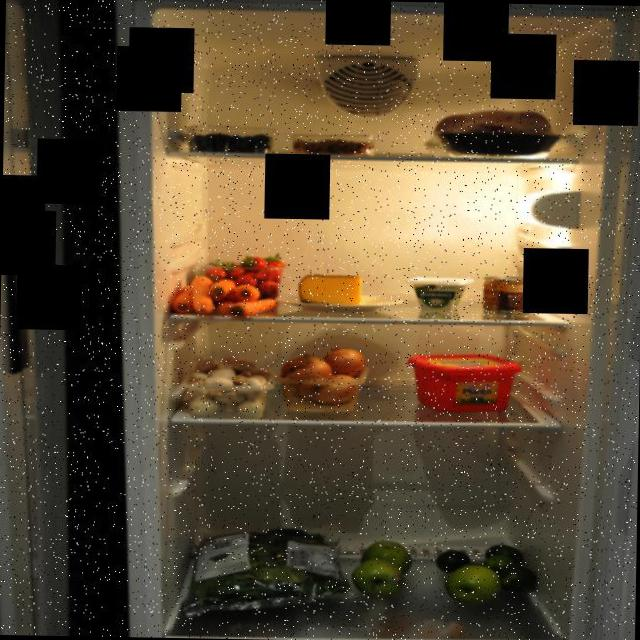Carne pollo: (423, 106, 566, 158)
Cebolla: (277, 346, 368, 408)
Champiñones: (176, 357, 278, 417)
Gambas/Langostinos: (291, 138, 374, 158)
Mantequilla: (409, 350, 522, 412)
Manzana: (352, 538, 416, 604), (444, 560, 504, 606)
Queso: (294, 272, 368, 308)
Zanahoria: (166, 274, 285, 318)
